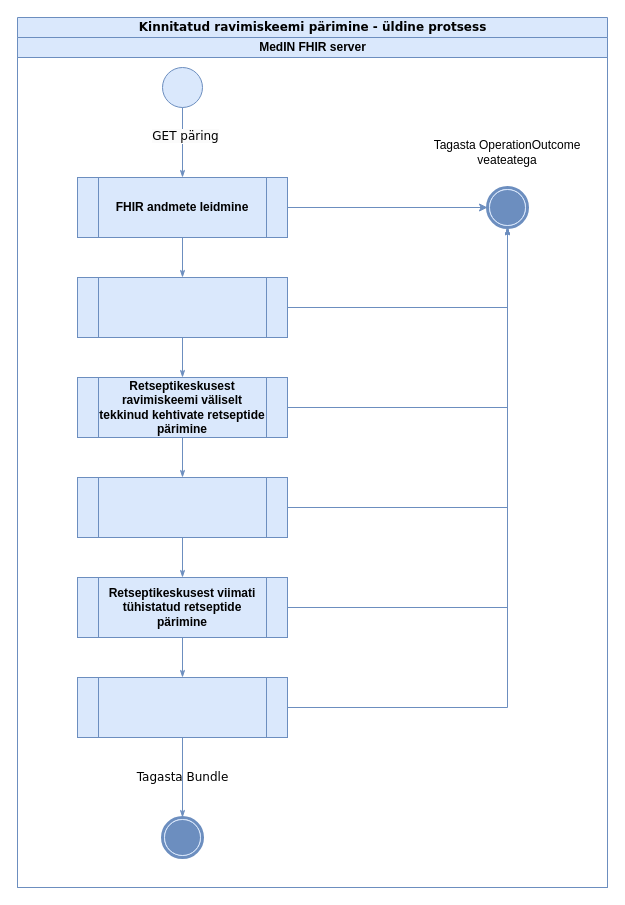
The diagram is 625 pixels wide and 905 high, and some of its shapes have lost their labels. The centre of each missing label's shape, as x and y in pixels:
Kogu saadud andmestikule grupeerimisloogika rakendamine: pixel 182 507
Retseptikeskusest FHIR seoste alusel retseptide pärimine: pixel 182 307
Viimase kinnitamise leidmine ja andmete sinna alla viimine: pixel 182 707
